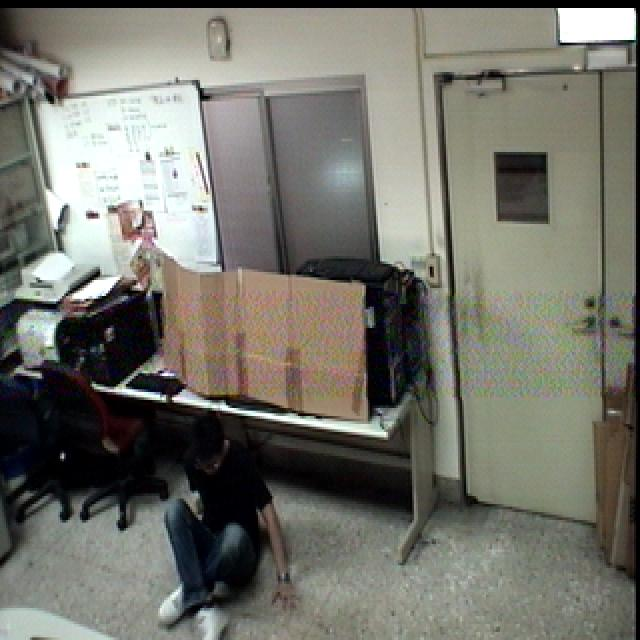sit: (137, 405, 298, 640)
